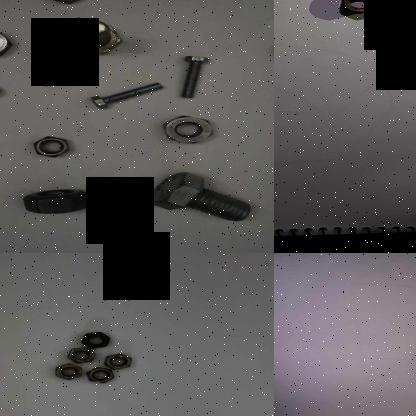Bolts: (138, 170, 260, 223), (87, 78, 164, 112), (174, 51, 214, 101)
NUTS: (17, 176, 92, 218), (154, 111, 216, 150), (23, 131, 75, 161), (45, 61, 92, 86), (337, 0, 383, 15), (76, 330, 114, 348), (102, 350, 135, 370), (51, 361, 84, 380), (0, 26, 18, 60), (86, 364, 116, 384), (66, 346, 98, 364), (41, 0, 91, 9)
